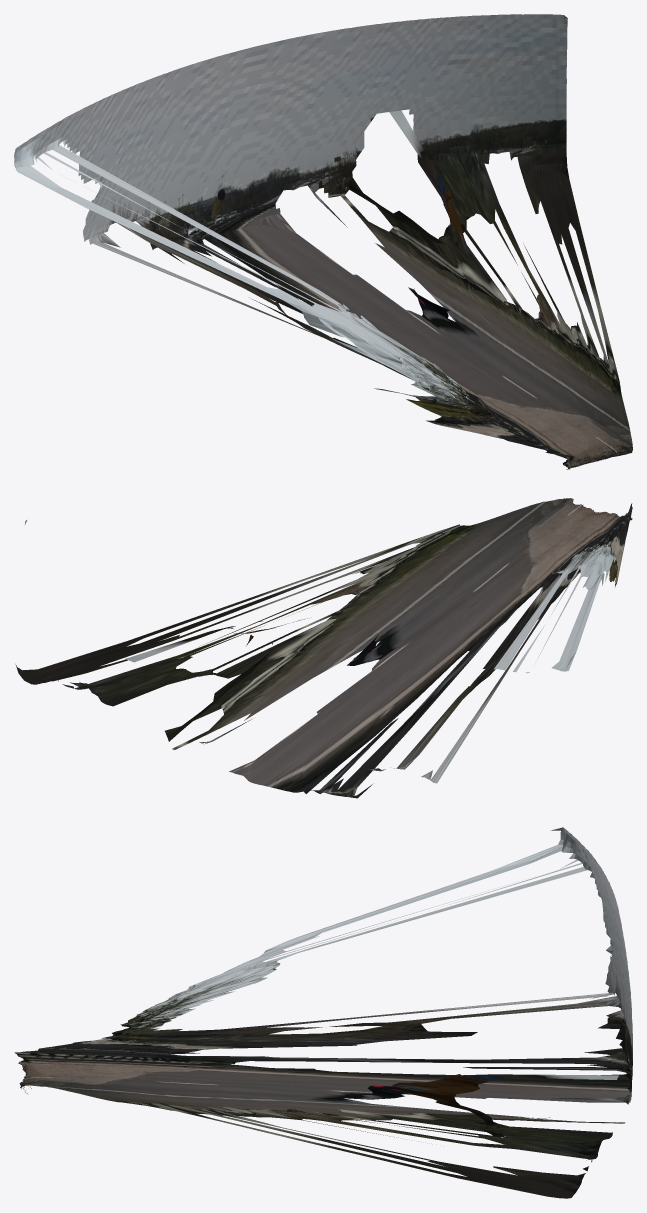
3 views of the same model, one above another, from view 1: azimuth 30°, elevation 25°; view 2: azimuth 150°, elevation 25°; view 3: azimuth 270°, elevation 25° (orthographic). The views are drawn at different scales.
Parts seen in each view (by area): view 1: defaultobject; view 2: defaultobject; view 3: defaultobject.
Part boxes in pixels (box(x1,y1,x2,y2)): defaultobject: box(14, 14, 632, 469); defaultobject: box(15, 498, 632, 798); defaultobject: box(14, 827, 632, 1198).
Bounding box in the file's own units: 40.83 × 13.03 × 44.84.
1 material, 1 textured.
